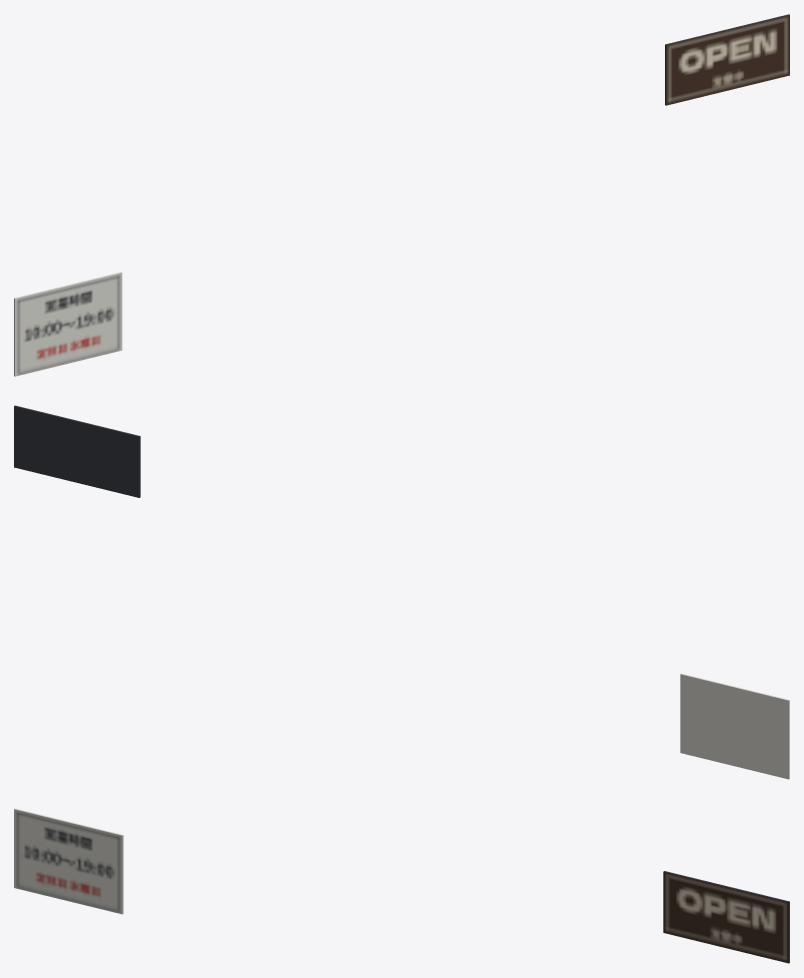
Rendered from SM_Opening_ShopFrontS39_SlideR_Decal_01.fbx.
The picture shows the model from 3 angles, top to bottom: view 1: azimuth 30°, elevation 25°; view 2: azimuth 150°, elevation 25°; view 3: azimuth 330°, elevation 25°; orthographic projection.
Visible parts, largest first — view 1: SM_Opening_ShopFrontS39_SlideR_Decal_01; view 2: SM_Opening_ShopFrontS39_SlideR_Decal_01; view 3: SM_Opening_ShopFrontS39_SlideR_Decal_01.
Boxes of the visible parts, bbox=[...] form: SM_Opening_ShopFrontS39_SlideR_Decal_01: bbox=[14, 14, 789, 376]; SM_Opening_ShopFrontS39_SlideR_Decal_01: bbox=[14, 405, 789, 779]; SM_Opening_ShopFrontS39_SlideR_Decal_01: bbox=[14, 808, 789, 963].
Size of the model in its own units: 1.86 by 0.41 by 0.024.
Materials: 1 (1 with a texture image).
